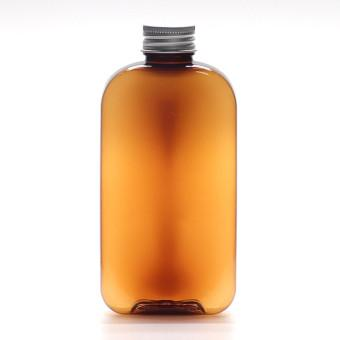bottle: (101, 24, 237, 316)
